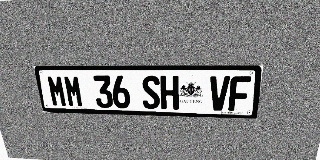3: (93, 75, 113, 108)
6: (111, 75, 131, 108)
F: (228, 76, 251, 111)
H: (160, 76, 179, 110)
M: (46, 75, 68, 107), (63, 75, 84, 107)
S: (141, 76, 160, 109)
V: (209, 76, 230, 111)
